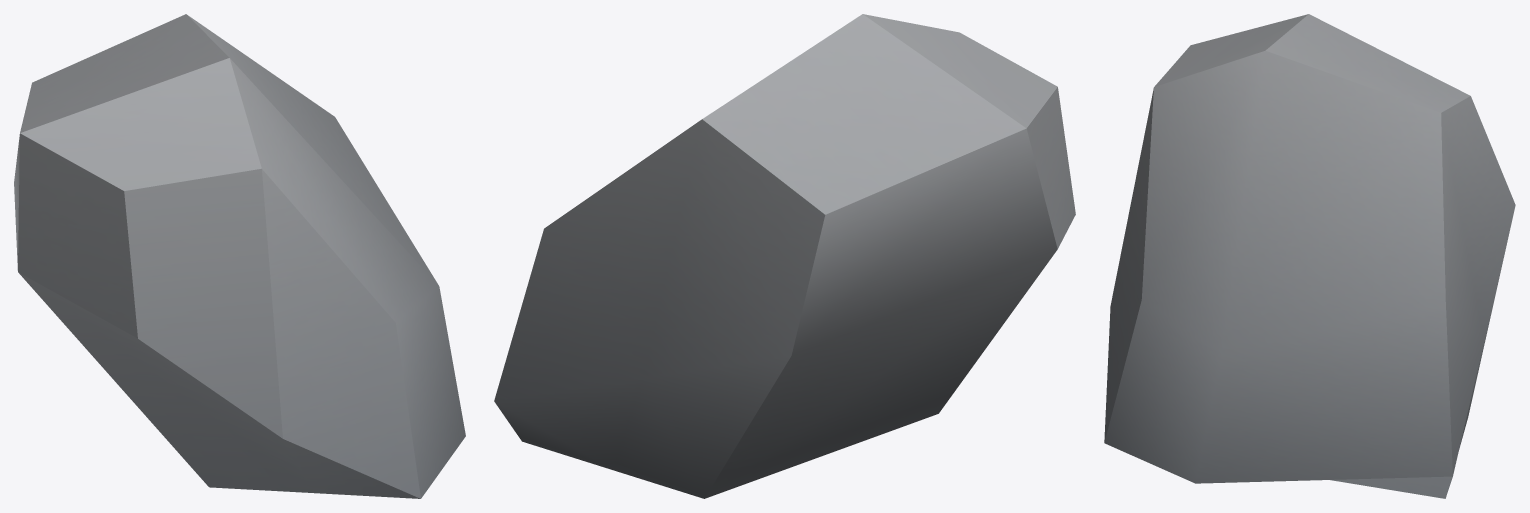
File: rocaCuadrada1.fbx
The picture shows the model from 3 angles, left to right: view 1: azimuth 30°, elevation 25°; view 2: azimuth 150°, elevation 25°; view 3: azimuth 270°, elevation 25°; orthographic projection. The views are drawn at different scales.
Parts seen in each view (by area): view 1: rocaCuadrada1; view 2: rocaCuadrada1; view 3: rocaCuadrada1.
Boxes of the visible parts, x1,y1,x2,y2 form: rocaCuadrada1: (14, 14, 465, 498); rocaCuadrada1: (494, 14, 1075, 498); rocaCuadrada1: (1104, 14, 1515, 498).
Bounding box in the file's own units: 293 × 245 × 261.
